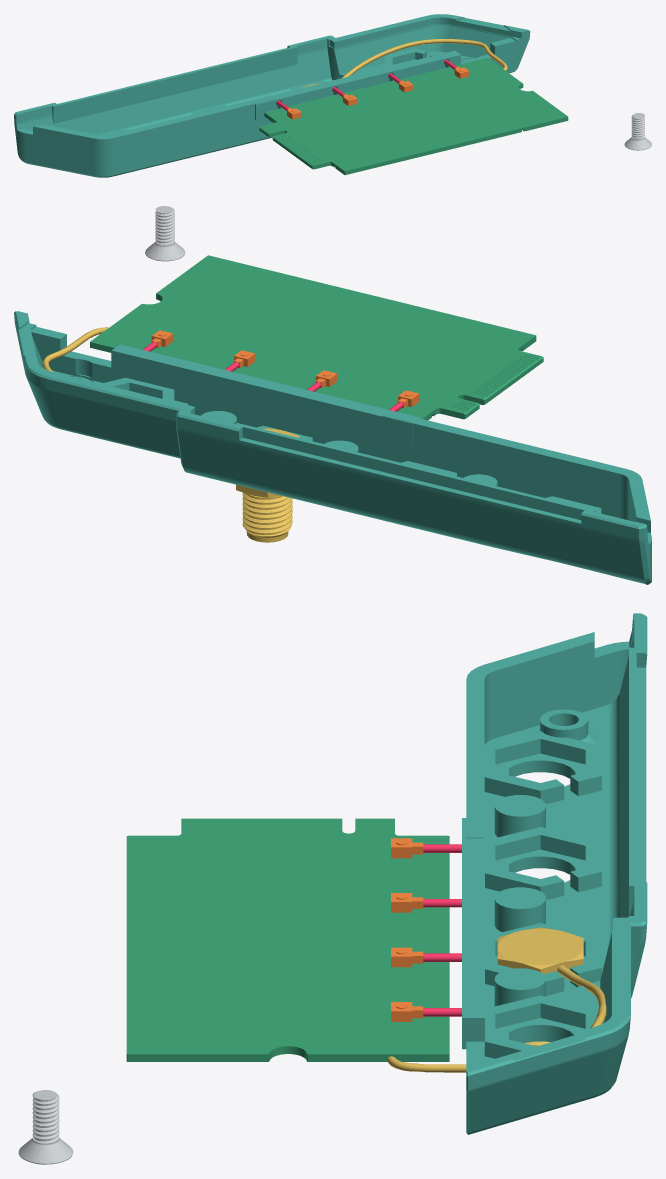
Rendered from sonnet.glb.
3 renders of one model, top to bottom at view 1: azimuth 30°, elevation 25°; view 2: azimuth 150°, elevation 25°; view 3: azimuth 270°, elevation 25°, orthographic. The views are drawn at different scales.
Visible parts, largest first — view 1: rail, m2board, sma, screw; view 2: rail, m2board, sma, screw; view 3: rail, m2board, sma, screw.
Part boxes in pixels (x1,y1,x2,y2): rail: (14,14,530,177); m2board: (259,58,568,174); sma: (300,39,507,88); screw: (624,113,651,150); rail: (14,311,651,584); m2board: (90,255,543,420); sma: (42,327,299,542); screw: (145,206,185,261); rail: (462,613,647,1134); m2board: (126,818,449,1061); sma: (387,927,606,1072); screw: (18,1090,73,1164).
Size of the model in its own units: 0.1045 by 0.0193 by 0.0584.
